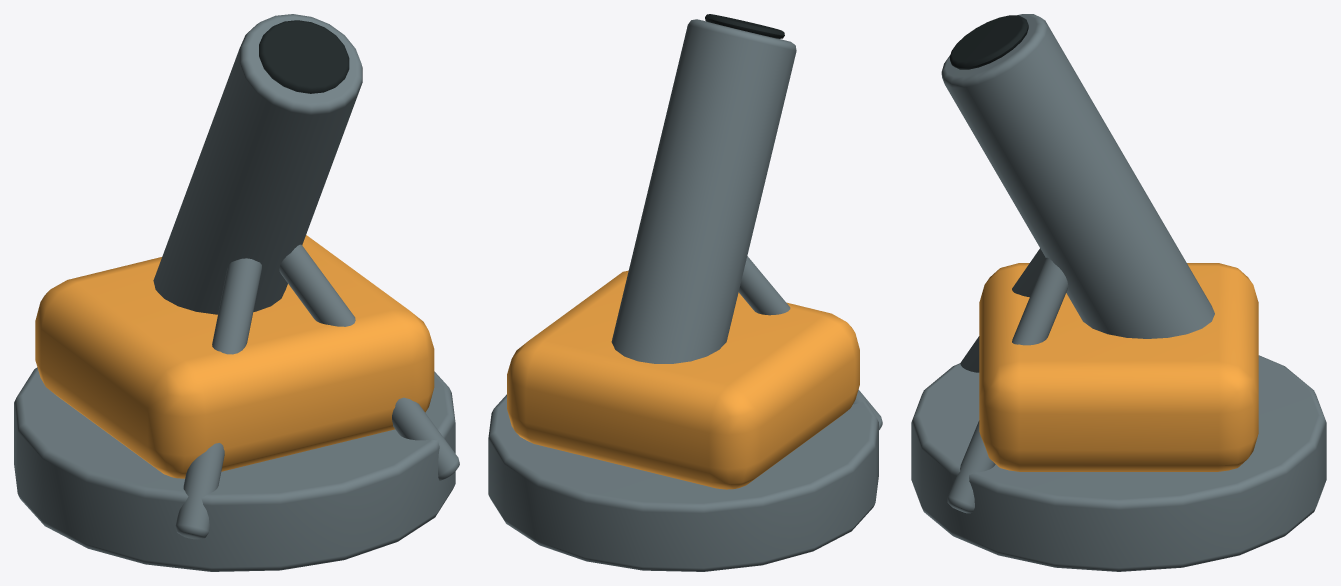
Rendered from mortar.glb.
The picture shows the model from 3 angles, left to right: view 1: azimuth 30°, elevation 25°; view 2: azimuth 150°, elevation 25°; view 3: azimuth 270°, elevation 25°; orthographic projection. The views are drawn at different scales.
Visible parts, largest first — view 1: Mortar armor, Mortar base, Mortar tube, Mortar bipod, Mortar dark opening, Mortar bipod.001; view 2: Mortar armor, Mortar base, Mortar tube, Mortar bipod, Mortar dark opening; view 3: Mortar base, Mortar armor, Mortar tube, Mortar bipod.001, Mortar dark opening, Mortar bipod.
Boxes of the visible parts, x1=… form: Mortar armor: x1=35, y1=235, x2=434, y2=478; Mortar base: x1=14, y1=367, x2=455, y2=571; Mortar tube: x1=153, y1=14, x2=362, y2=314; Mortar bipod: x1=175, y1=258, x2=261, y2=539; Mortar dark opening: x1=259, y1=20, x2=349, y2=93; Mortar bipod.001: x1=279, y1=244, x2=459, y2=480; Mortar armor: x1=507, y1=270, x2=859, y2=489; Mortar base: x1=488, y1=394, x2=878, y2=571; Mortar tube: x1=611, y1=19, x2=796, y2=363; Mortar bipod: x1=738, y1=256, x2=882, y2=429; Mortar dark opening: x1=705, y1=14, x2=784, y2=38; Mortar base: x1=911, y1=355, x2=1326, y2=571; Mortar armor: x1=979, y1=263, x2=1258, y2=471; Mortar tube: x1=941, y1=14, x2=1214, y2=338; Mortar bipod.001: x1=947, y1=257, x2=1068, y2=513; Mortar dark opening: x1=949, y1=15, x2=1028, y2=69; Mortar bipod: x1=960, y1=248, x2=1045, y2=372.
Size of the model in its own units: 1.04 by 1.28 by 1.04.
